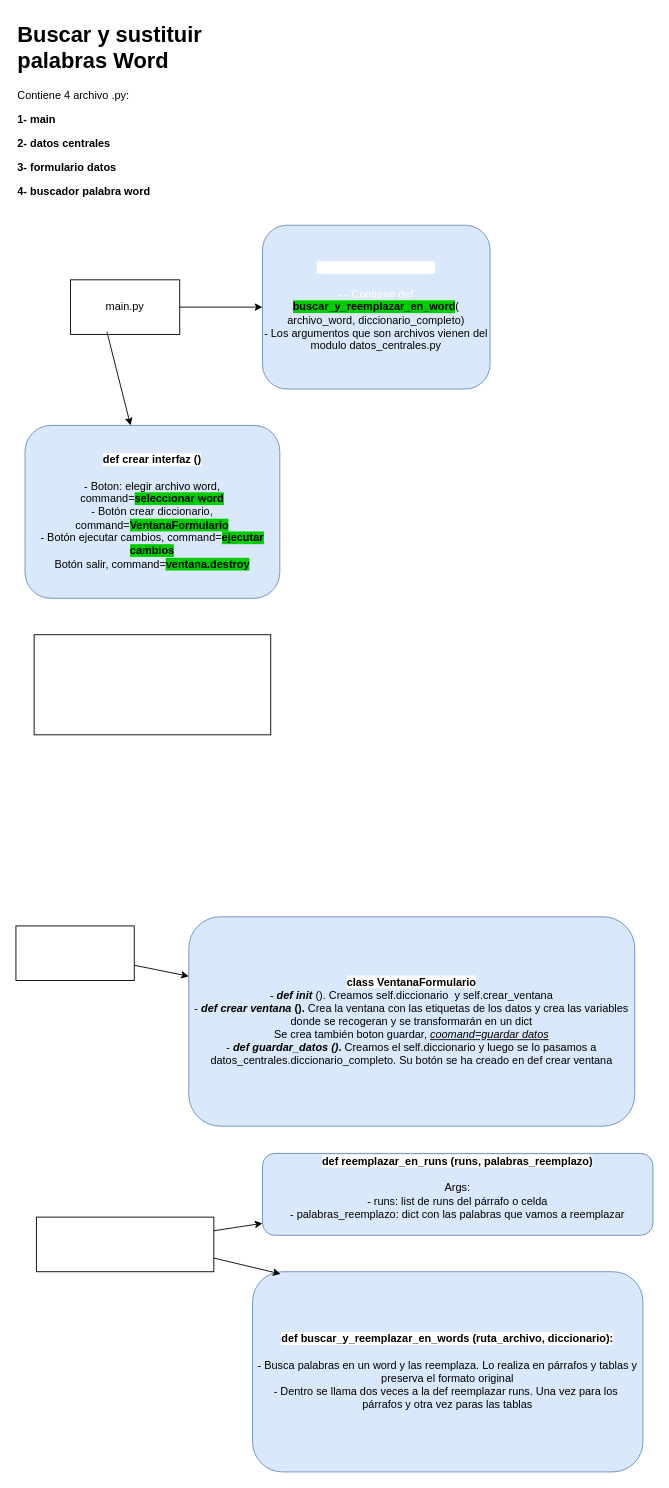
The diagram is 669 pixels wide and 1488 high, and some of its shapes have lost their labels. Each missing label, with the centre of its shape:
buscador_palabra_word.py: the point at 124,1244
datos_centrales.py - archivo word = None - diccionario_completo = {}: the point at 152,684
formulario_datos.py: the point at 74,953
